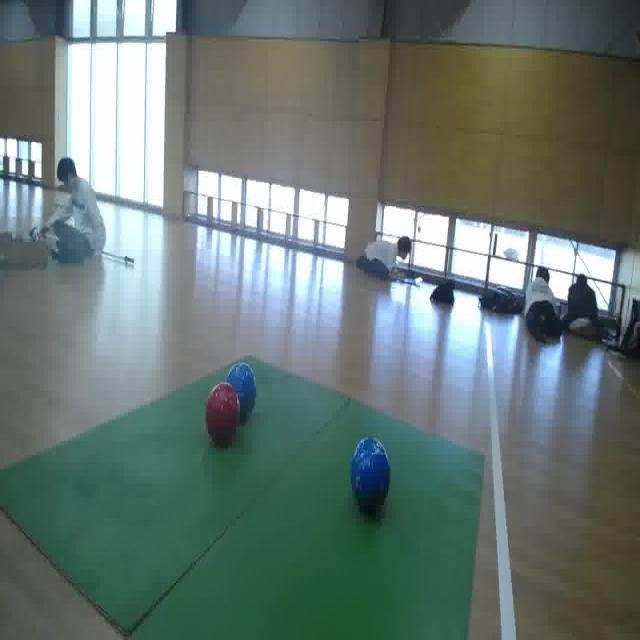blue_ball: (348, 432, 393, 516), (225, 362, 260, 424)
red_ball: (203, 378, 241, 445)
